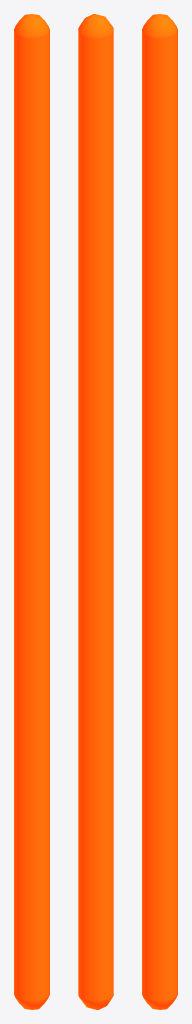
The model's file is bulb2.fbx.
3 views of the same model, side by side, from view 1: azimuth 90°, elevation 25°; view 2: azimuth 150°, elevation 25°; view 3: azimuth 270°, elevation 25° (orthographic).
Parts seen in each view (by area): view 1: bulb.001; view 2: bulb.001; view 3: bulb.001.
Boxes of the visible parts, x1=… form: bulb.001: x1=14, y1=14, x2=49, y2=1009; bulb.001: x1=78, y1=14, x2=113, y2=1009; bulb.001: x1=142, y1=14, x2=177, y2=1009.
Bounding box in the file's own units: 5 × 153 × 5.
